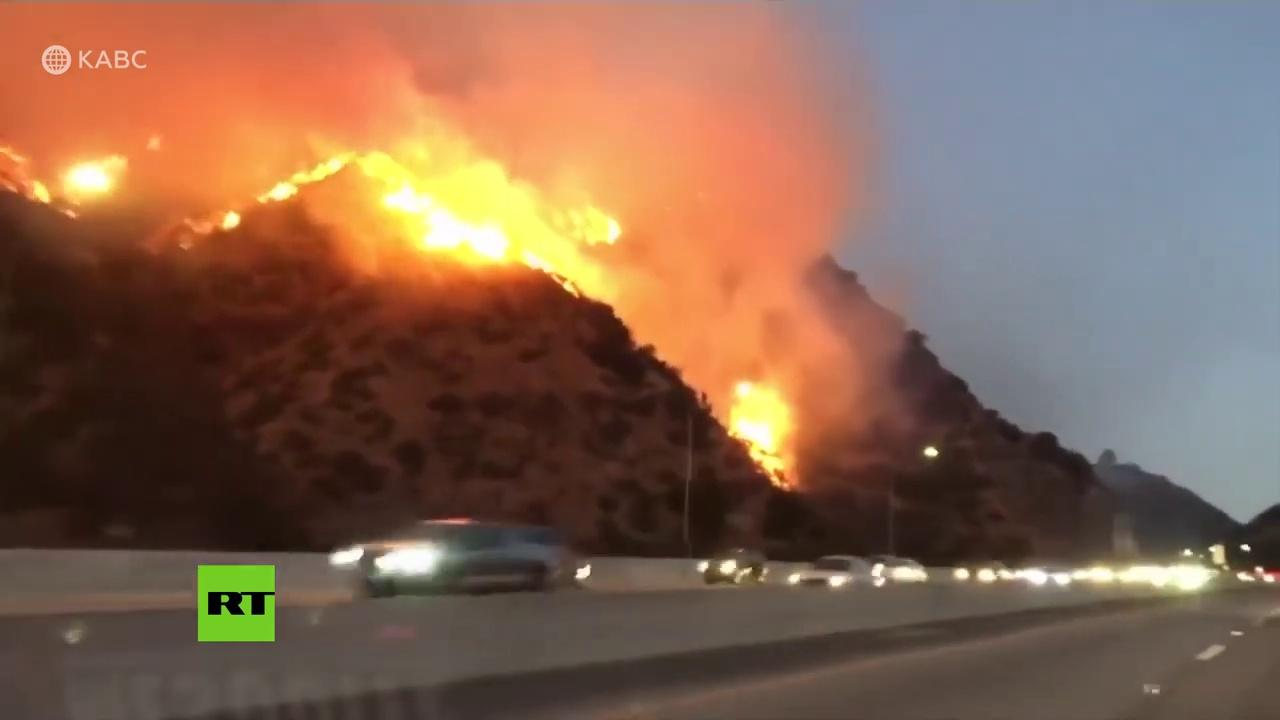Fire: (364, 146, 624, 305), (1, 138, 130, 217), (726, 379, 801, 491), (260, 149, 355, 207), (219, 210, 244, 230)
